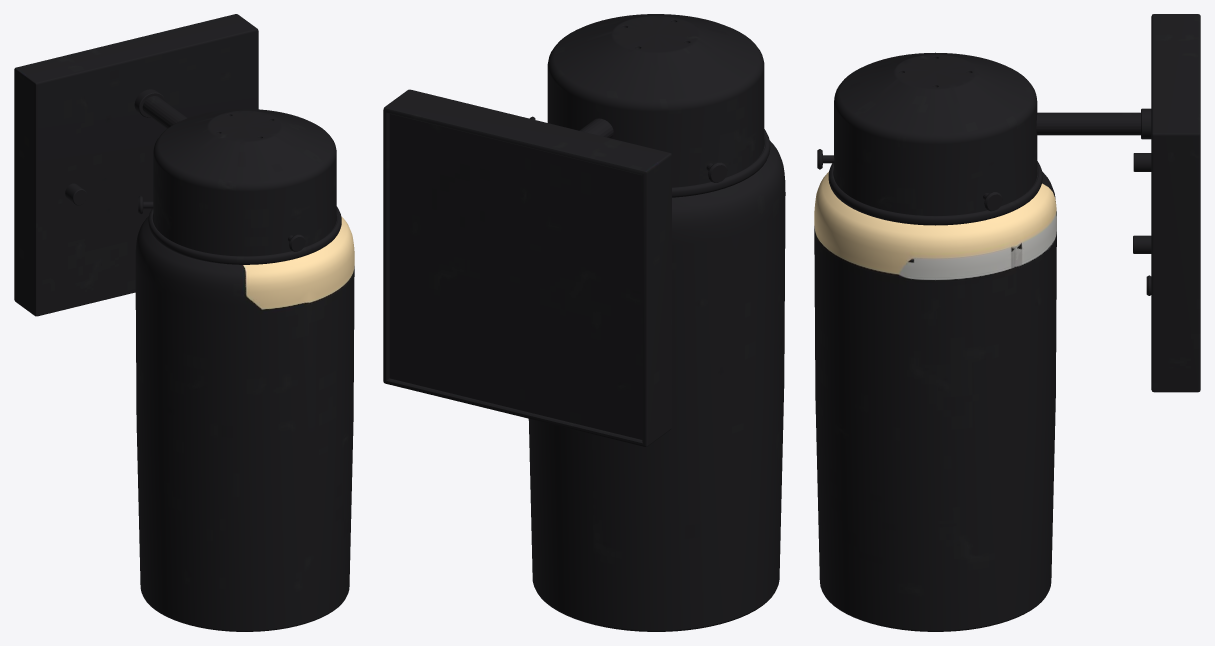
3 renders of one model, left to right at view 1: azimuth 30°, elevation 25°; view 2: azimuth 150°, elevation 25°; view 3: azimuth 270°, elevation 25°, orthographic. The views are drawn at different scales.
Visible parts, largest first — view 1: RootNode; view 2: RootNode; view 3: RootNode.
Boxes of the visible parts, <box> form: RootNode: <box>14,14,354,631</box>; RootNode: <box>383,14,785,631</box>; RootNode: <box>814,14,1200,631</box>.
Bounding box in the file's own units: 0.1301 × 0.257 × 0.1757.
Materials: 1 (1 with a texture image).
